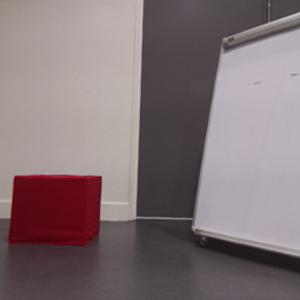big: (192, 11, 300, 262)
medium: (8, 175, 100, 245)
